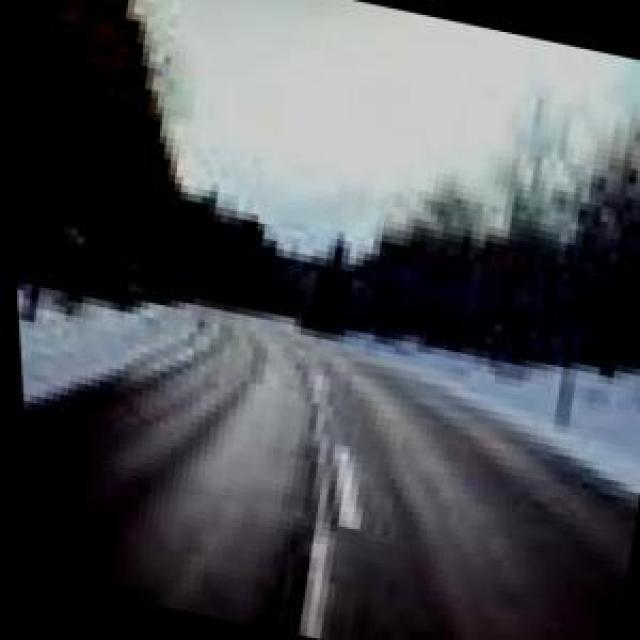clear-road: (115, 331, 636, 640)
